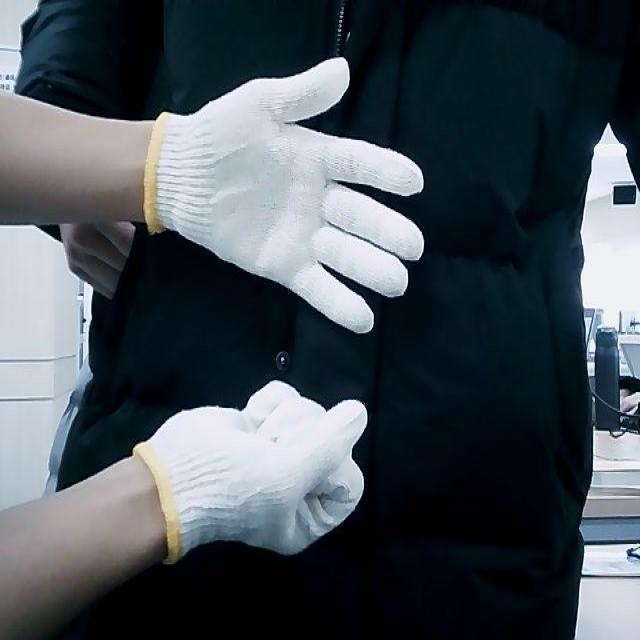Guantes: (142, 54, 426, 337), (132, 379, 371, 562)
